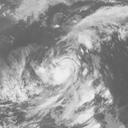cyclone: (34, 54, 81, 86)
